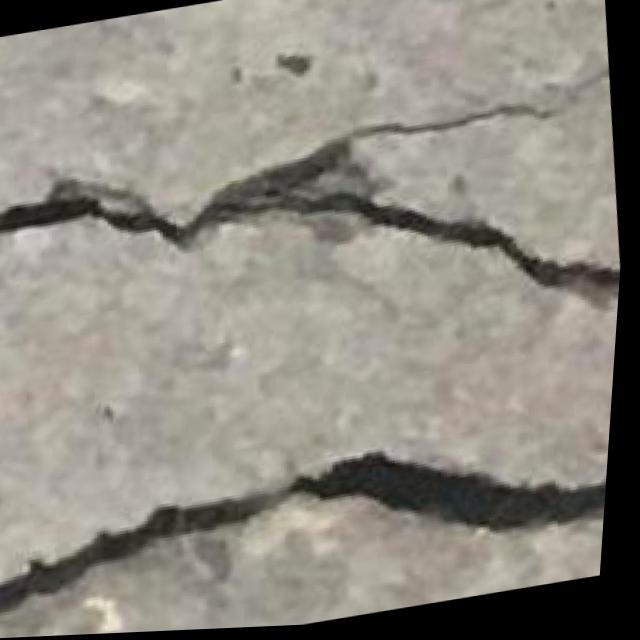Crack: (0, 56, 636, 431), (0, 283, 624, 640), (0, 401, 618, 627)
